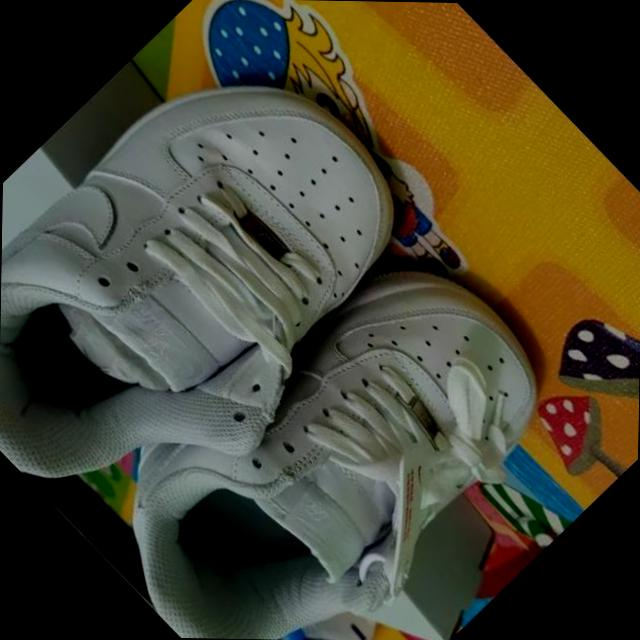nike_original_airforce: (0, 0, 467, 574), (72, 204, 599, 640)
